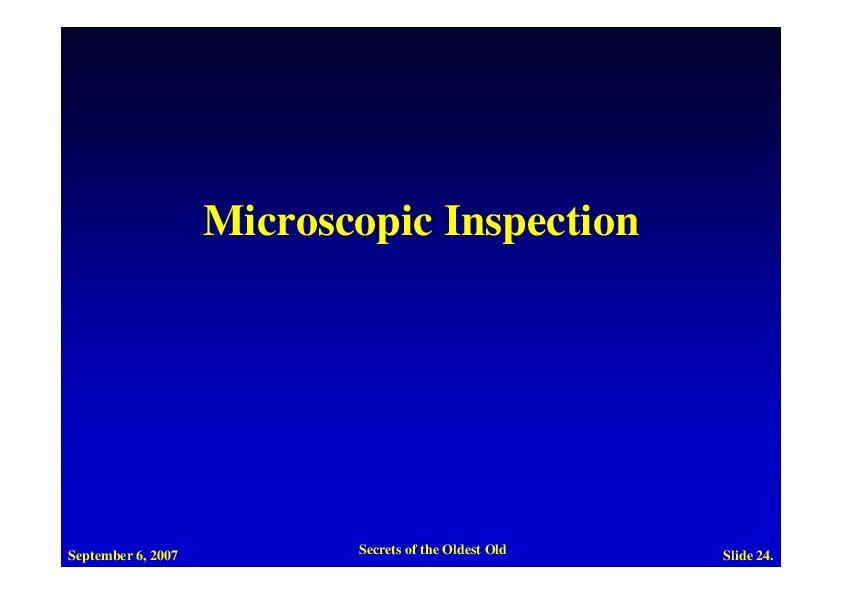subtitle: (65, 537, 782, 565)
title: (191, 179, 648, 258)
